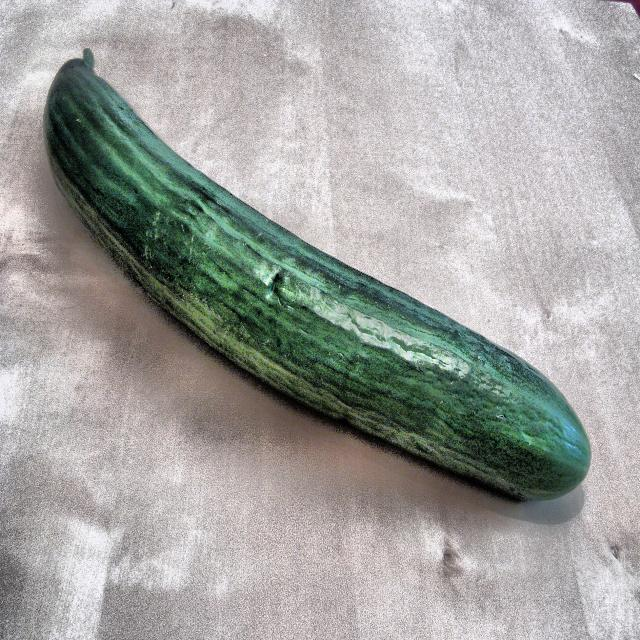cucumber: (18, 10, 620, 624)
